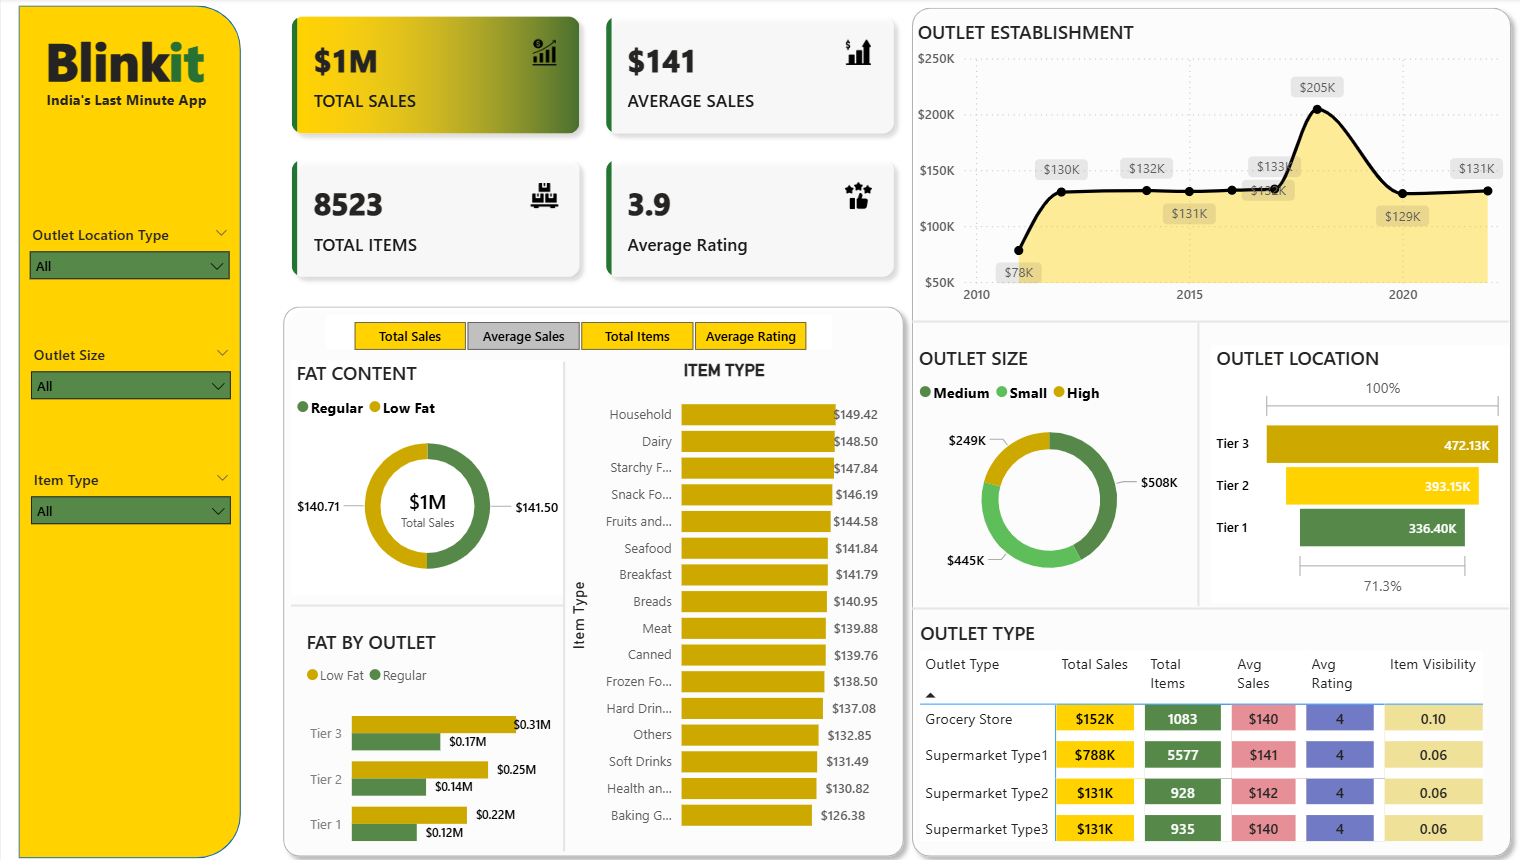

Layout of this report page (visuals, bound fields, positions):
{"tool":"powerbi","page":{"name":"Page 1","canvas":[1400,800],"ordinal":0},"visuals":[{"type":"shape","box":[16.2,7.4,204.9,785.6],"z":0},{"type":"textbox","box":[35.4,19.2,168,79.6],"z":1000},{"type":"textbox","box":[36.8,79.6,166.6,38.3],"z":2000},{"type":"cardVisual","fields":{"Data":["BlinkIT Grocery Data.Total Sales","BlinkIT Grocery Data.Average Sales","BlinkIT Grocery Data.Total Items","BlinkIT Grocery Data.Average Rating"]},"box":[250.6,0,589.6,275.6],"z":3000},{"type":"shape","box":[250.6,275.6,589.6,524.7],"z":4000},{"type":"donutChart","title":"FAT CONTENT","fields":{"Y":["BlinkIT Grocery Data.Average Sales"],"Category":["BlinkIT Grocery Data.Item Fat Content"]},"box":[267.1,334.5,251.8,216.2],"z":5000},{"type":"slicer","fields":{"Values":["matrics.matrics"]},"box":[298.9,291.2,466.8,33.1],"z":6000},{"type":"cardVisual","fields":{"Data":["BlinkIT Grocery Data.Total Sales"]},"box":[346.7,433.7,93.1,70.5],"z":7000},{"type":"clusteredBarChart","title":"FAT BY OUTLET","fields":{"Y":["BlinkIT Grocery Data.Total Sales"],"Category":["BlinkIT Grocery Data.Outlet Location Type"],"Series":["BlinkIT Grocery Data.Item Fat Content"]},"box":[276,581.2,235.3,218.8],"z":8000},{"type":"shape","box":[266.8,551.3,252.1,16.2],"z":9000},{"type":"shape","box":[502.6,334.6,31,451],"z":10000},{"type":"barChart","title":"ITEM TYPE","fields":{"Y":["BlinkIT Grocery Data.Average Sales"],"Category":["BlinkIT Grocery Data.Item Type"]},"box":[518.9,334.5,293.8,443.9],"z":11000},{"type":"shape","box":[830.5,0,569.8,800],"z":12000},{"type":"lineChart","title":"OUTLET ESTABLISHMENT","fields":{"Y":["BlinkIT Grocery Data.Total Sales"],"Category":["BlinkIT Grocery Data.Outlet Establishment Year"]},"box":[839.4,19.1,549.4,272.2],"z":13000},{"type":"shape","box":[839.4,293.8,549.4,8.9],"z":14000},{"type":"shape","box":[1091.2,298.9,22.9,260.7],"z":15000},{"type":"donutChart","title":"OUTLET SIZE","fields":{"Y":["BlinkIT Grocery Data.Total Sales"],"Category":["BlinkIT Grocery Data.Outlet Size"]},"box":[840.7,320.5,250.5,232.7],"z":16000},{"type":"shape","box":[839.4,557.1,549.4,10.2],"z":17000},{"type":"funnel","title":"OUTLET LOCATION","fields":{"Y":["Sum(BlinkIT Grocery Data.Sales)"],"Category":["BlinkIT Grocery Data.Outlet Location Type"]},"box":[1114.1,320.5,274.7,236.6],"z":18000},{"type":"pivotTable","title":"OUTLET TYPE","fields":{"Rows":["BlinkIT Grocery Data.Outlet Type"],"Values":["BlinkIT Grocery Data.Total Sales","BlinkIT Grocery Data.Total Items","BlinkIT Grocery Data.Average Sales","BlinkIT Grocery Data.Average Rating","Avg(BlinkIT Grocery Data.Item Visibility)"]},"box":[841.9,573.6,548.1,220],"z":19000},{"type":"slicer","fields":{"Values":["BlinkIT Grocery Data.Outlet Location Type"]},"box":[16.5,203.5,204.8,72.5],"z":20000},{"type":"slicer","fields":{"Values":["BlinkIT Grocery Data.Item Type"]},"box":[17.8,429.9,204.8,72.5],"z":21000},{"type":"slicer","fields":{"Values":["BlinkIT Grocery Data.Outlet Size"]},"box":[17.8,314.1,204.8,72.5],"z":22000}]}

Visuals, with their boxes in screenshot pixels (x1, y1, x2, y2), scaled from the page's 1400x800 canvas onto the 1520x860 screenshot:
shape: bbox=[18, 8, 240, 852]
textbox: bbox=[38, 21, 221, 106]
textbox: bbox=[40, 86, 221, 127]
cardVisual - BlinkIT Grocery Data.Total Sales x BlinkIT Grocery Data.Average Sales: bbox=[272, 0, 912, 296]
shape: bbox=[272, 296, 912, 859]
"FAT CONTENT" donutChart: bbox=[290, 360, 563, 592]
slicer - matrics.matrics: bbox=[325, 313, 831, 349]
cardVisual - BlinkIT Grocery Data.Total Sales: bbox=[376, 466, 477, 542]
"FAT BY OUTLET" clusteredBarChart: bbox=[300, 625, 555, 859]
shape: bbox=[290, 593, 563, 610]
shape: bbox=[546, 360, 579, 845]
"ITEM TYPE" barChart: bbox=[563, 360, 882, 837]
shape: bbox=[902, 0, 1519, 859]
"OUTLET ESTABLISHMENT" lineChart: bbox=[911, 21, 1508, 313]
shape: bbox=[911, 316, 1508, 325]
shape: bbox=[1185, 321, 1210, 602]
"OUTLET SIZE" donutChart: bbox=[913, 345, 1185, 595]
shape: bbox=[911, 599, 1508, 610]
"OUTLET LOCATION" funnel: bbox=[1210, 345, 1508, 599]
"OUTLET TYPE" pivotTable: bbox=[914, 617, 1509, 853]
slicer - BlinkIT Grocery Data.Outlet Location Type: bbox=[18, 219, 240, 297]
slicer - BlinkIT Grocery Data.Item Type: bbox=[19, 462, 242, 540]
slicer - BlinkIT Grocery Data.Outlet Size: bbox=[19, 338, 242, 416]
